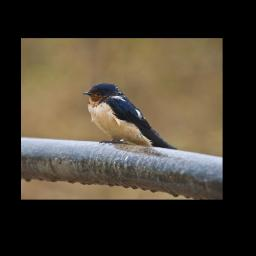Swallow: (81, 82, 177, 150)
